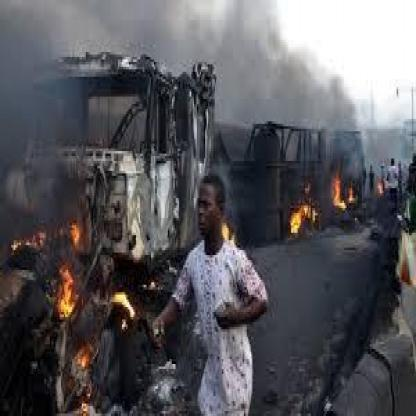fire: (11, 229, 148, 397), (282, 191, 323, 237), (330, 161, 360, 214), (219, 215, 237, 240)
smoke: (6, 40, 74, 209)
